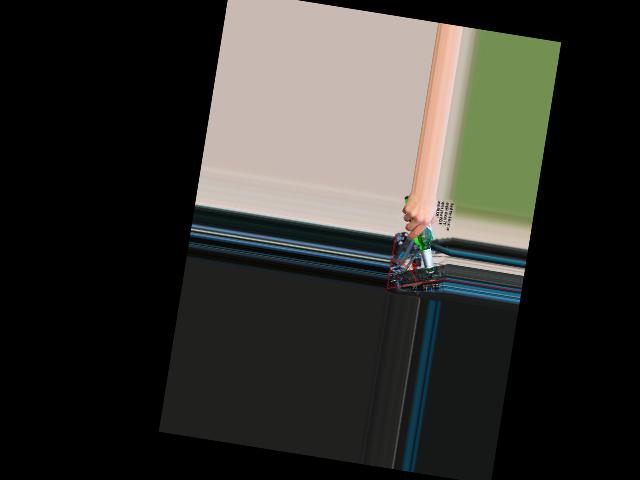beer: (392, 195, 444, 275)
